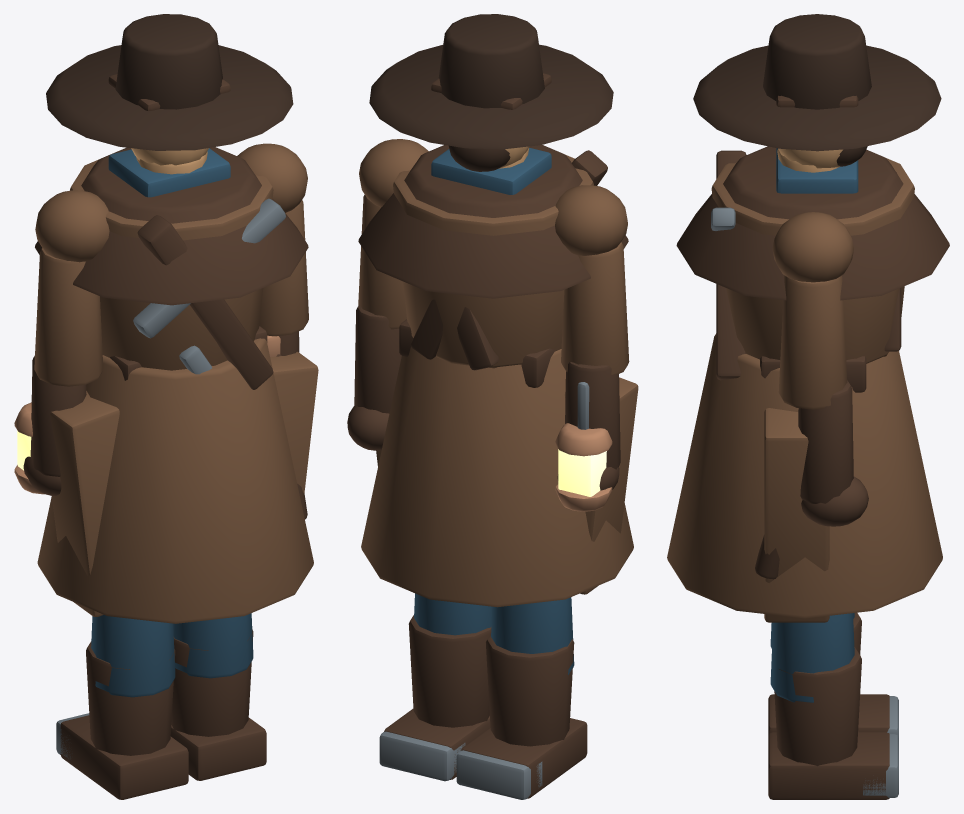
File: hunter.glb
3 views of the same model, side by side, from view 1: azimuth 30°, elevation 25°; view 2: azimuth 150°, elevation 25°; view 3: azimuth 270°, elevation 25° (orthographic).
Parts seen in each view (by area): view 1: Hunter; view 2: Hunter; view 3: Hunter.
Boxes of the visible parts, x1,y1,x2,y2 form: Hunter: (14, 14, 318, 799); Hunter: (347, 14, 638, 799); Hunter: (667, 14, 949, 799).
Size of the model in its own units: 0.7555 by 1.98 by 0.692.
